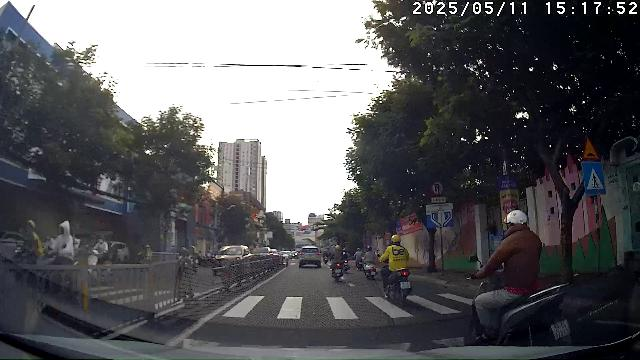124b-cam-oto-quay-dau-xe: (431, 180, 445, 196)
423a-duong-nguoi-di-bo-sang-ngang-1: (582, 160, 606, 194)
